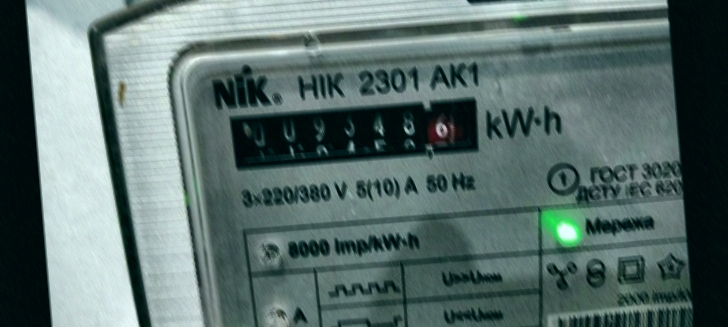0: (251, 121, 269, 148), (281, 115, 297, 143)
3: (342, 111, 358, 138)
4: (369, 107, 389, 138)
6: (432, 110, 452, 140)
8: (401, 108, 418, 137)
9: (312, 116, 329, 144)
screen: (212, 82, 496, 183)
